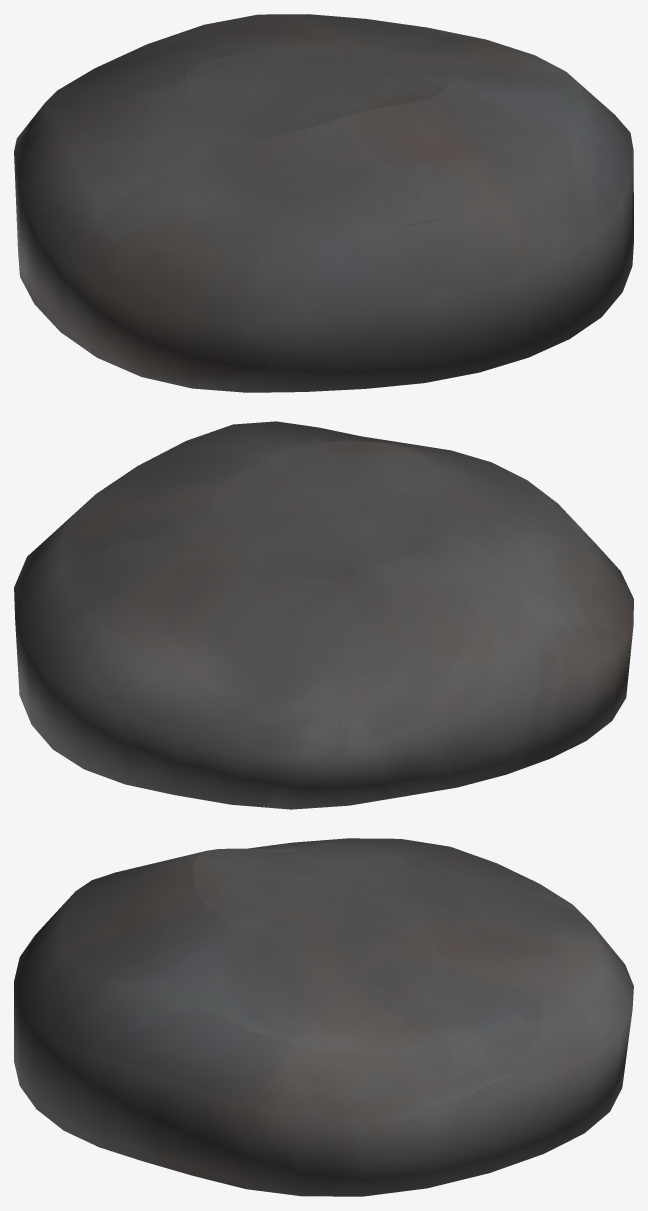
Rendered from rock.fbx.
3 views of the same model, one above another, from view 1: azimuth 30°, elevation 25°; view 2: azimuth 150°, elevation 25°; view 3: azimuth 270°, elevation 25° (orthographic). The views are drawn at different scales.
Parts seen in each view (by area): view 1: Cylinder; view 2: Cylinder; view 3: Cylinder.
Part boxes in pixels (box(x1,y1,x2,y2)): Cylinder: box(14, 14, 633, 392); Cylinder: box(14, 421, 633, 809); Cylinder: box(14, 838, 633, 1196).
Size of the model in its own units: 624 by 223 by 631.
1 material, 1 textured.
